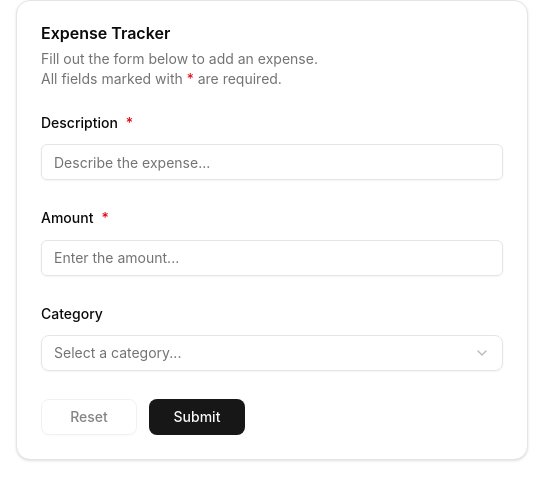
Test: ExpenseTrackerForm › form display › displays the list of categories
This screenshot has width=545, height=478.
// Open select dropdown
Click the dropdown with test id "select-trigger-category". click: click(118, 352)
box: x1=41 y1=335 x2=503 y2=371
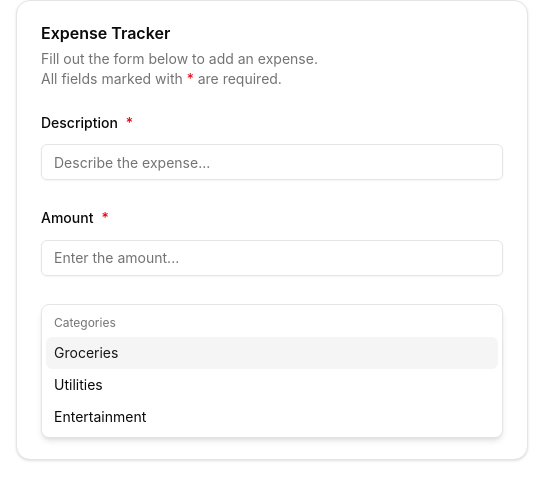
Result: the option "Groceries" is shown at x1=46 y1=337 x2=498 y2=369
Result: the option "Utilities" is shown at x1=54 y1=376 x2=103 y2=393
Result: the option "Entertainment" is shown at x1=54 y1=408 x2=146 y2=425
